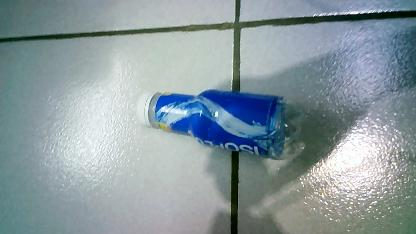Plastic Bottle: (136, 91, 306, 160)
